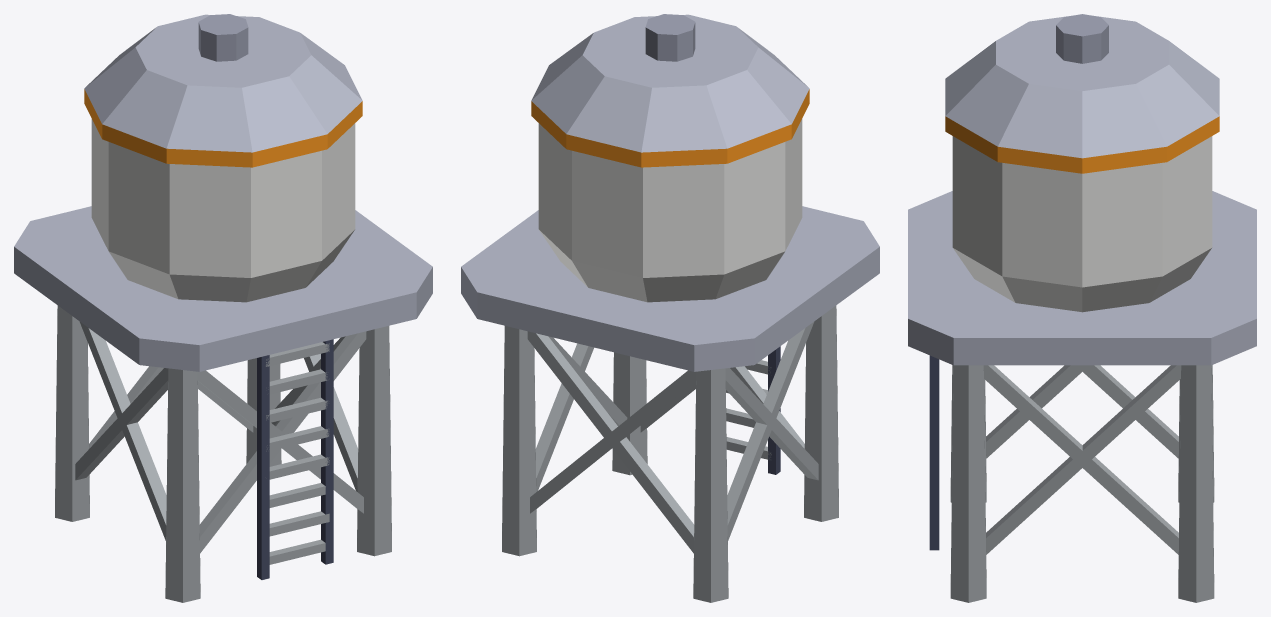
The model's file is watertower-1x1-t1-tone-a.glb.
3 views of the same model, side by side, from view 1: azimuth 30°, elevation 25°; view 2: azimuth 150°, elevation 25°; view 3: azimuth 270°, elevation 25° (orthographic). The views are drawn at different scales.
Visible parts, largest first — view 1: watertower-1x1-t1-tone-a; view 2: watertower-1x1-t1-tone-a; view 3: watertower-1x1-t1-tone-a.
Boxes of the visible parts, left/top/right/bottom form: watertower-1x1-t1-tone-a: left=14, top=14, right=432, bottom=602; watertower-1x1-t1-tone-a: left=461, top=14, right=879, bottom=602; watertower-1x1-t1-tone-a: left=908, top=14, right=1256, bottom=602.
Bounding box in the file's own units: 0.92 × 1.51 × 0.92.
Materials: 1 (1 with a texture image).
